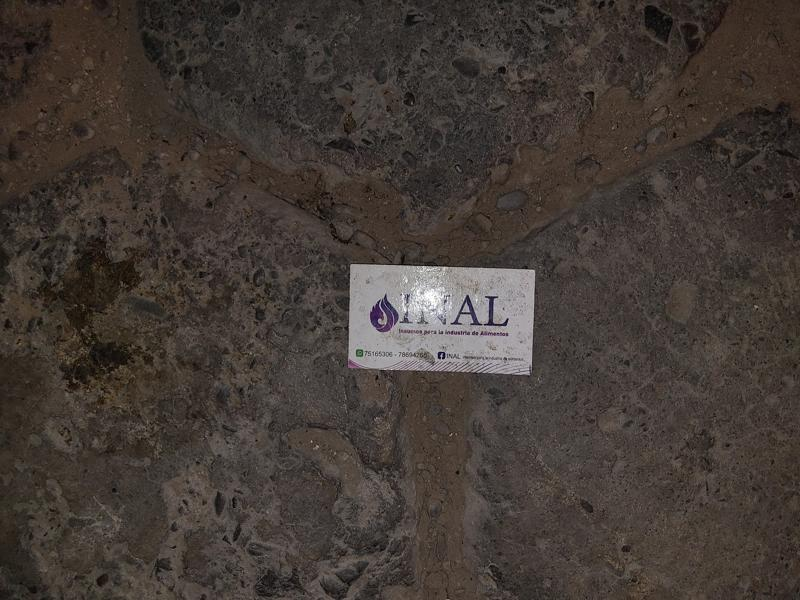papel: (346, 264, 536, 378)
